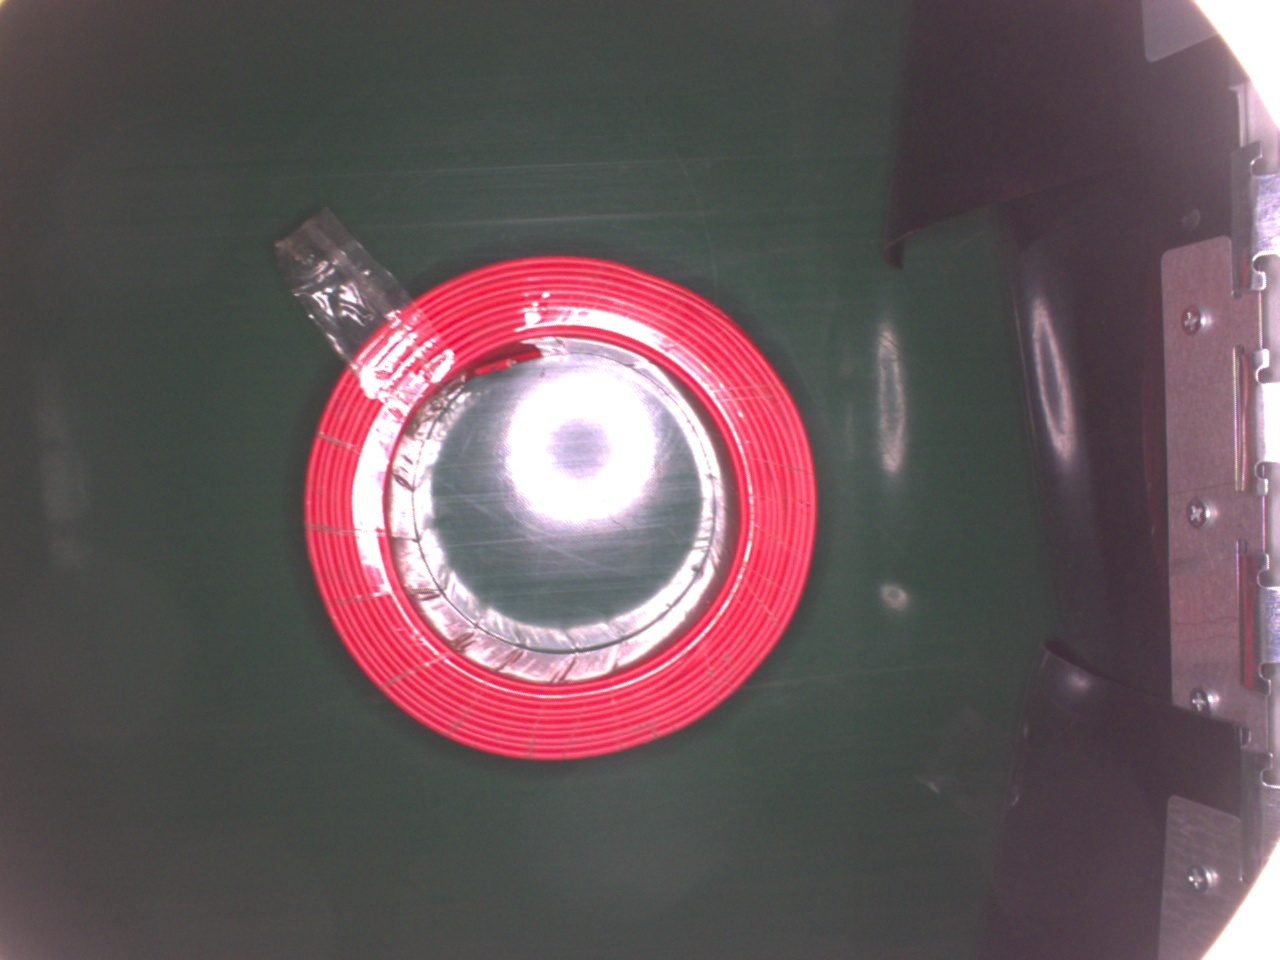red: (301, 251, 821, 772)
